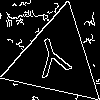Y: (31, 34, 76, 88)
